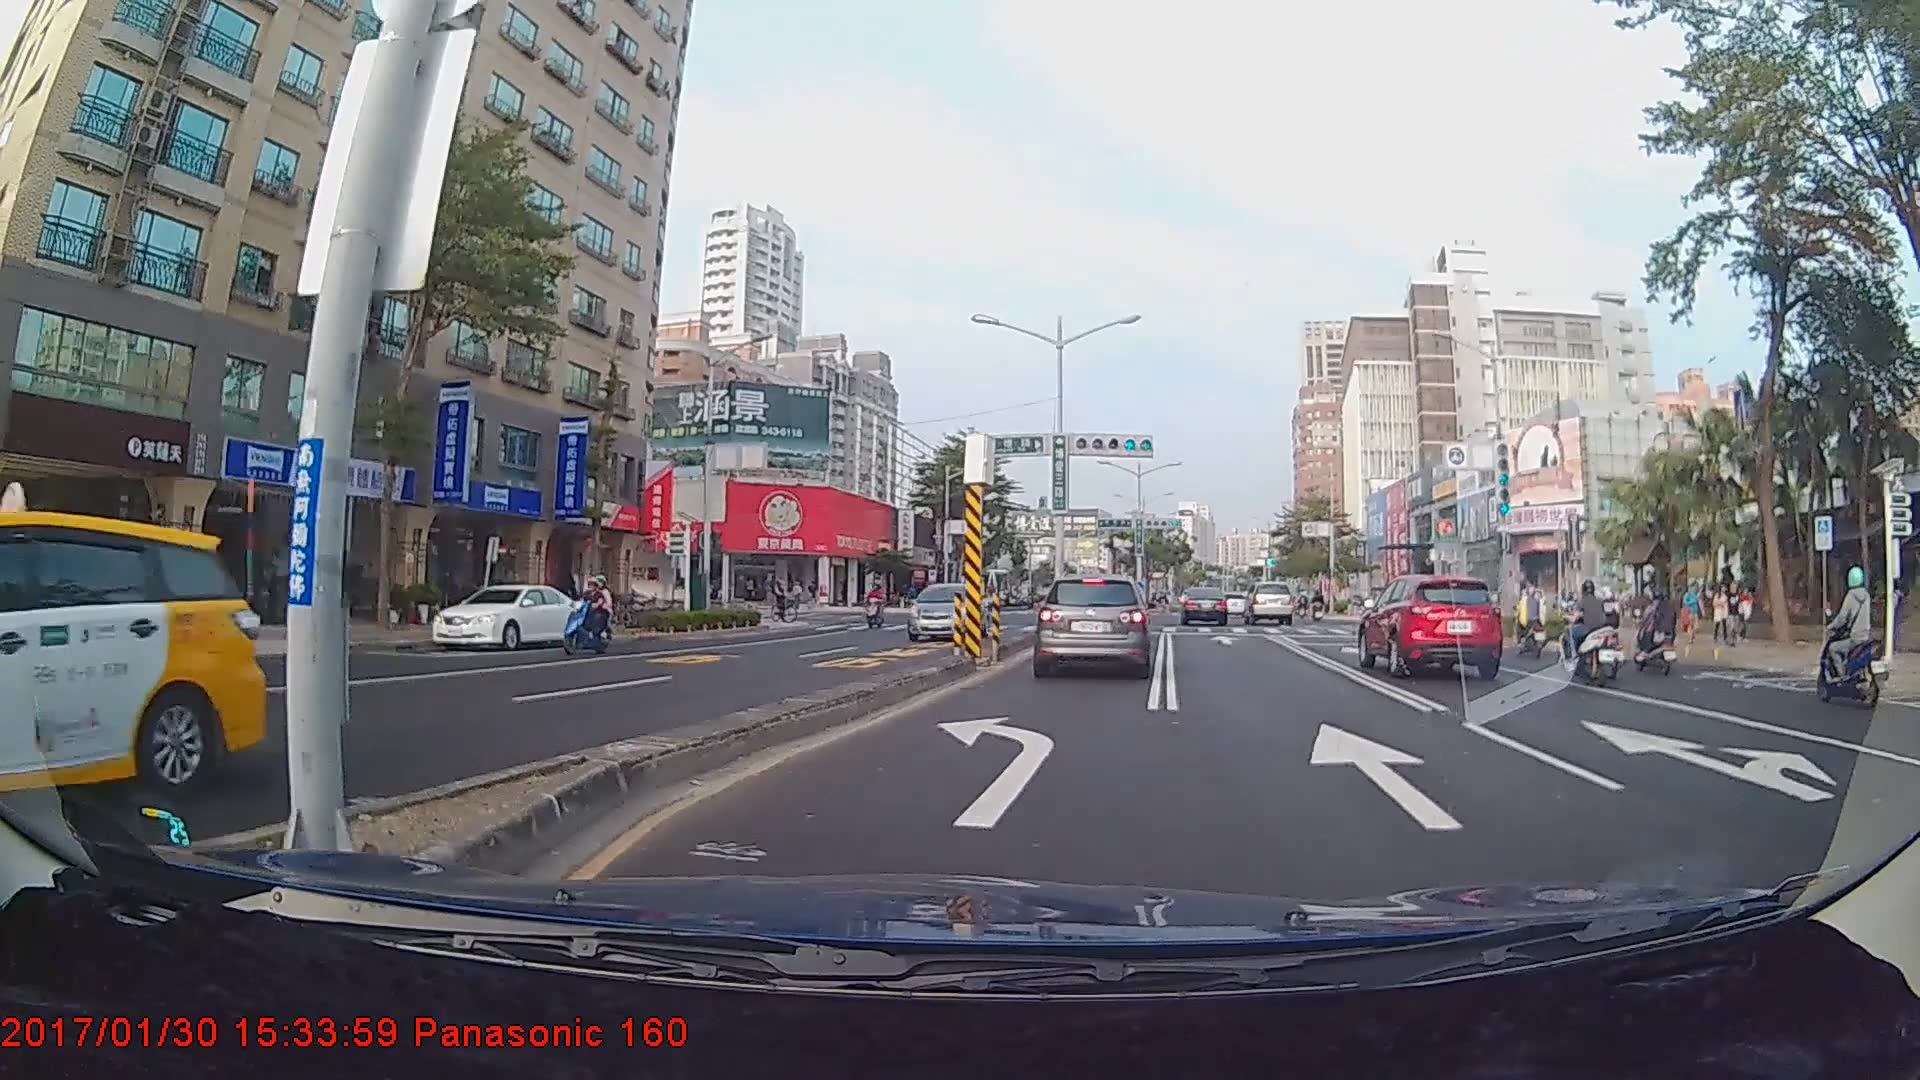pedestrian: (1682, 580, 1705, 647), (1725, 581, 1745, 645), (1712, 581, 1732, 642)
rider: (1807, 566, 1887, 712), (1553, 573, 1623, 682), (553, 573, 617, 660), (1626, 581, 1678, 674), (859, 577, 888, 632), (765, 576, 795, 627)
vehicle: (0, 508, 268, 817), (1357, 570, 1504, 678), (1031, 572, 1152, 678), (428, 582, 587, 651), (904, 581, 986, 639), (1243, 581, 1294, 626), (1179, 585, 1227, 627)
